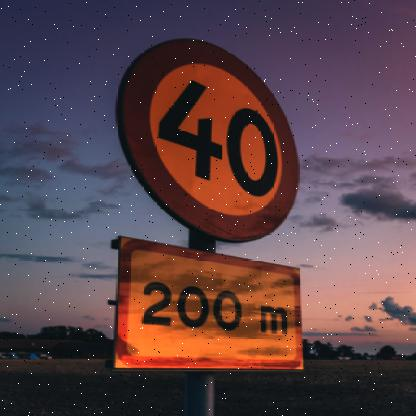speedlimit: (116, 37, 302, 240)
